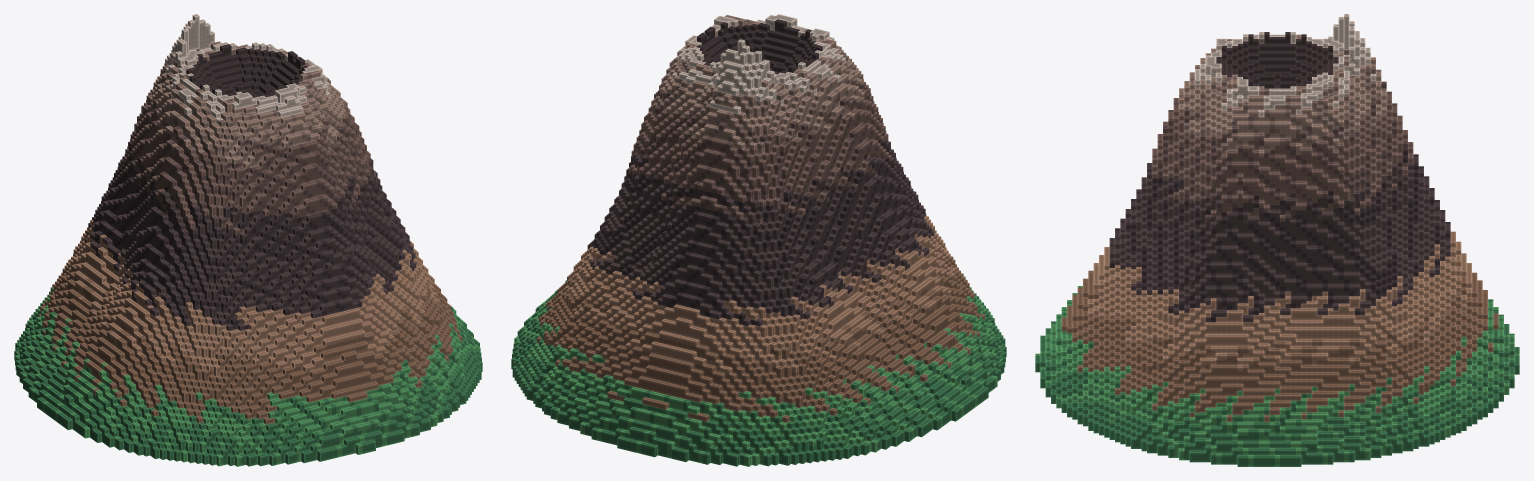
The model's file is FarVolcano.glb.
3 renders of one model, left to right at view 1: azimuth 30°, elevation 25°; view 2: azimuth 150°, elevation 25°; view 3: azimuth 270°, elevation 25°, orthographic. The views are drawn at different scales.
Parts seen in each view (by area): view 1: FarVolcano_S7, FarVolcano_S6, FarVolcano_S2, FarVolcano_S4, FarVolcano_S5, FarVolcano_S3, FarVolcano_S8, FarVolcano_S9, FarVolcano_S1; view 2: FarVolcano_S6, FarVolcano_S7, FarVolcano_S2, FarVolcano_S4, FarVolcano_S3, FarVolcano_S5, FarVolcano_S8, FarVolcano_S1, FarVolcano_S9; view 3: FarVolcano_S7, FarVolcano_S6, FarVolcano_S2, FarVolcano_S4, FarVolcano_S5, FarVolcano_S3, FarVolcano_S8, FarVolcano_S9, FarVolcano_S1.
Part boxes in pixels (x1,y1,x2,y2): FarVolcano_S7: (86, 87, 414, 329); FarVolcano_S6: (84, 141, 416, 331); FarVolcano_S2: (38, 246, 462, 424); FarVolcano_S4: (14, 291, 482, 466); FarVolcano_S5: (15, 44, 480, 466); FarVolcano_S3: (64, 220, 439, 376); FarVolcano_S8: (46, 41, 450, 409); FarVolcano_S9: (51, 70, 450, 400); FarVolcano_S1: (165, 14, 329, 124); FarVolcano_S6: (587, 139, 934, 326); FarVolcano_S7: (593, 81, 931, 325); FarVolcano_S2: (537, 256, 984, 422); FarVolcano_S4: (511, 280, 1006, 466); FarVolcano_S3: (564, 216, 955, 374); FarVolcano_S5: (514, 19, 1002, 466); FarVolcano_S8: (541, 15, 974, 408); FarVolcano_S1: (672, 14, 845, 113); FarVolcano_S9: (547, 15, 888, 391); FarVolcano_S7: (1109, 81, 1450, 322); FarVolcano_S6: (1109, 156, 1450, 322); FarVolcano_S2: (1061, 270, 1498, 421); FarVolcano_S4: (1035, 299, 1519, 466); FarVolcano_S5: (1035, 32, 1519, 466); FarVolcano_S3: (1088, 231, 1471, 371); FarVolcano_S8: (1072, 37, 1498, 421); FarVolcano_S9: (1067, 34, 1434, 402); FarVolcano_S1: (1195, 14, 1375, 116).
Bounding box in the file's own units: 890 × 710 × 910.
Materials: 9 (9 with a texture image).
